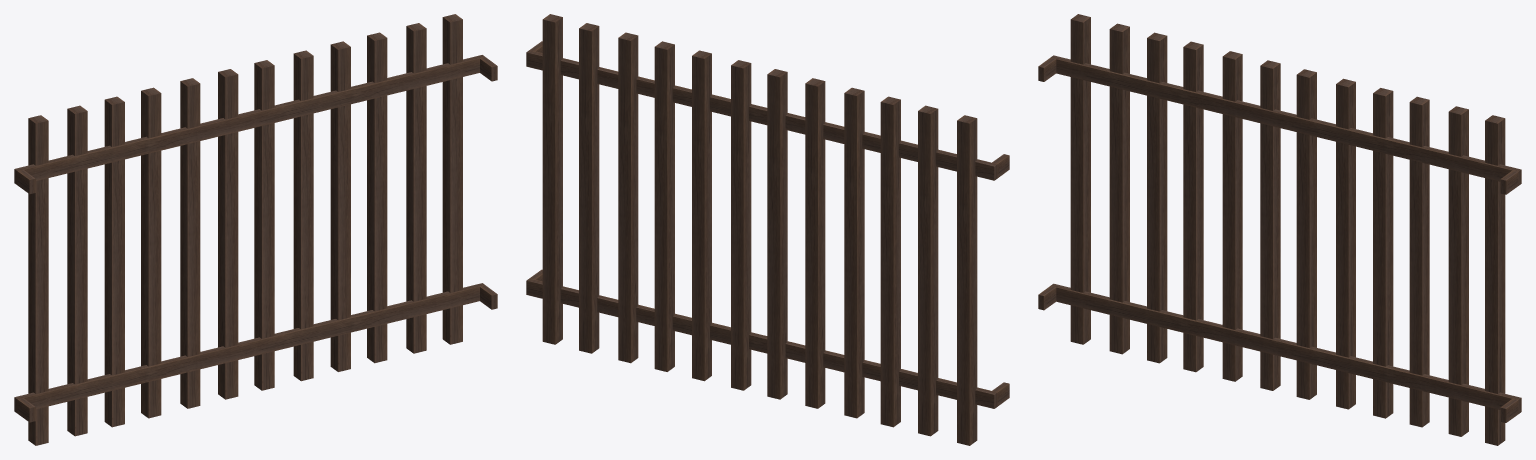
Rendered from kousi02.fbx.
The picture shows the model from 3 angles, left to right: view 1: azimuth 30°, elevation 25°; view 2: azimuth 150°, elevation 25°; view 3: azimuth 330°, elevation 25°; orthographic projection.
Parts seen in each view (by area): view 1: kousi02; view 2: kousi02; view 3: kousi02.
Part boxes in pixels (left/top/right/bottom): kousi02: left=14, top=14, right=497, bottom=445; kousi02: left=526, top=14, right=1009, bottom=445; kousi02: left=1038, top=14, right=1521, bottom=445.
Bounding box in the file's own units: 198 × 131 × 15.13.
